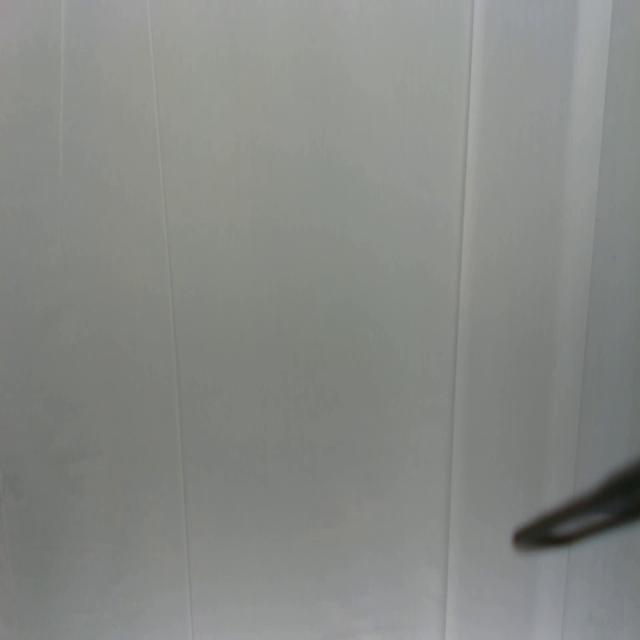crease: (146, 0, 195, 640), (570, 0, 614, 485), (443, 0, 476, 639), (56, 0, 67, 190), (558, 552, 571, 640)
